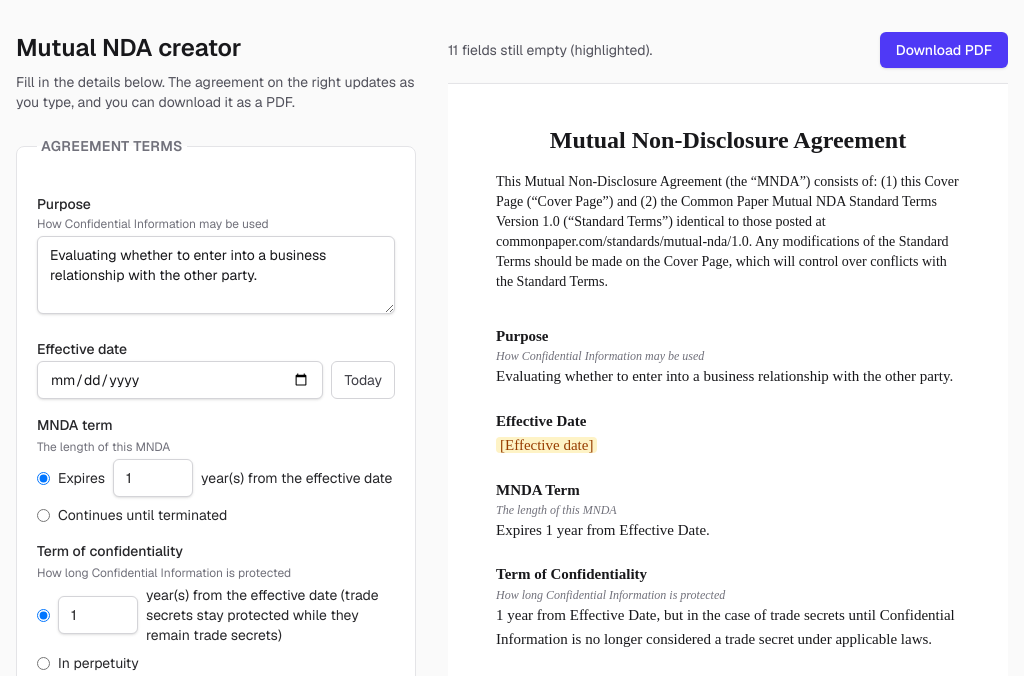
NdaBuilder › lets the user clear a years field and type a new value
Replace the text in the number field named "MNDA term in years" with "5" at (153, 478), box [113,459,193,497]
(page scrolled)
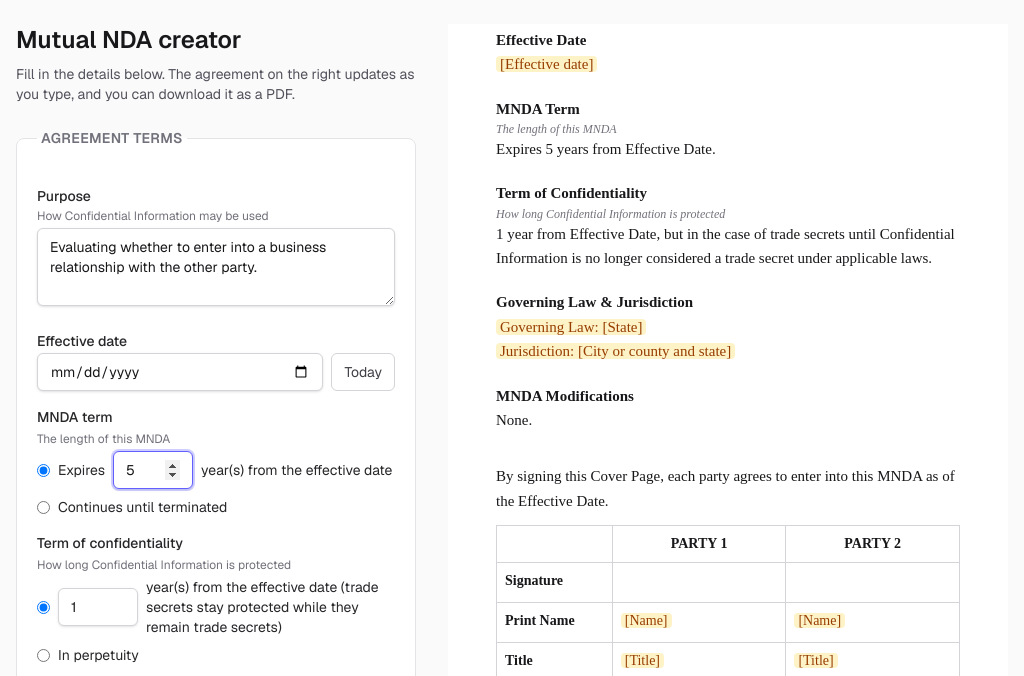
Expected: the element that starts with "Mutual Non-Disclosure Agreement" shows "Expires 5 years from Effective Date.", [496,141,716,157]
